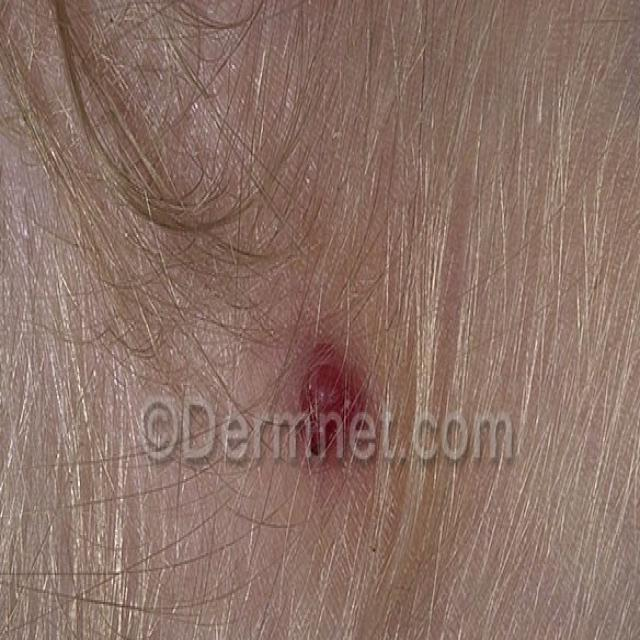Vascular Tumors: (285, 303, 371, 477)
